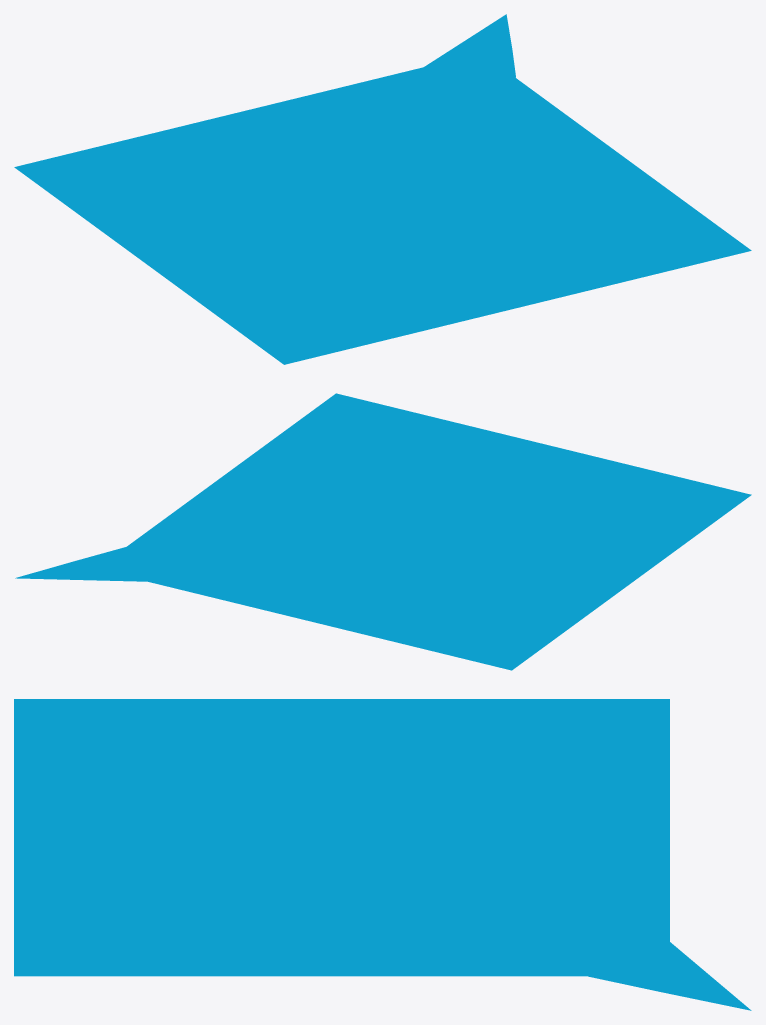
Rendered from dialogueBox.fbx.
The picture shows the model from 3 angles, top to bottom: view 1: azimuth 30°, elevation 25°; view 2: azimuth 150°, elevation 25°; view 3: azimuth 270°, elevation 25°; orthographic projection. The views are drawn at different scales.
Visible parts, largest first — view 1: pPlane2; view 2: pPlane2; view 3: pPlane2.
Boxes of the visible parts, x1,y1,x2,y2 form: pPlane2: (14,14,751,364); pPlane2: (15,393,751,670); pPlane2: (14,699,751,1010).
Bounding box in the file's own units: 0.9 × 2.22e-16 × 0.9.
